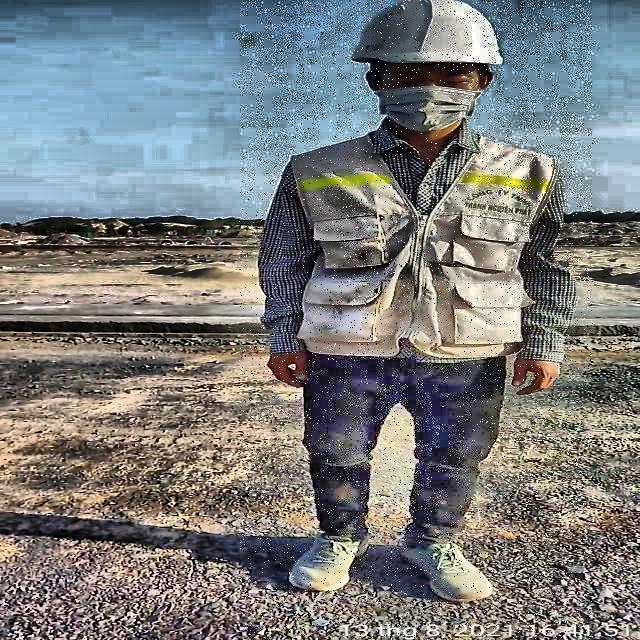safety_helmet: (344, 0, 515, 76)
safety_jacket: (282, 122, 571, 363)
